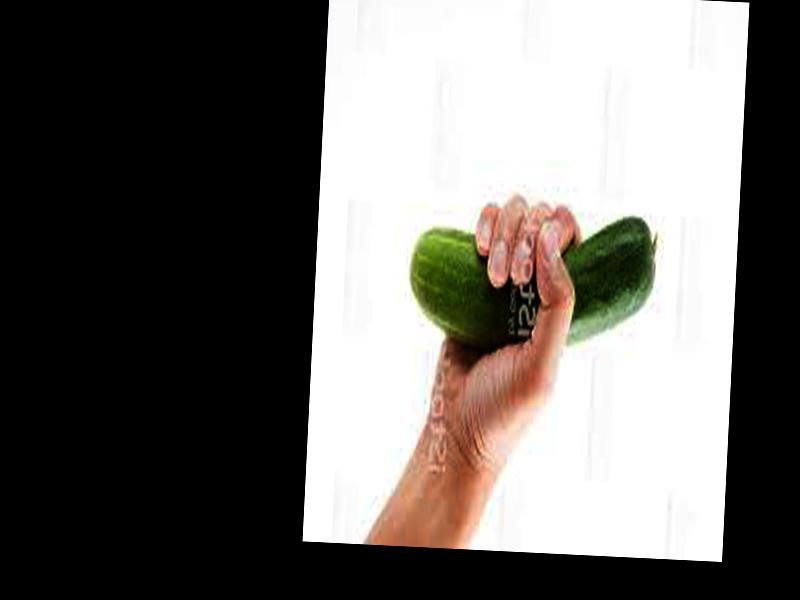Cucumber: (408, 203, 657, 358)
